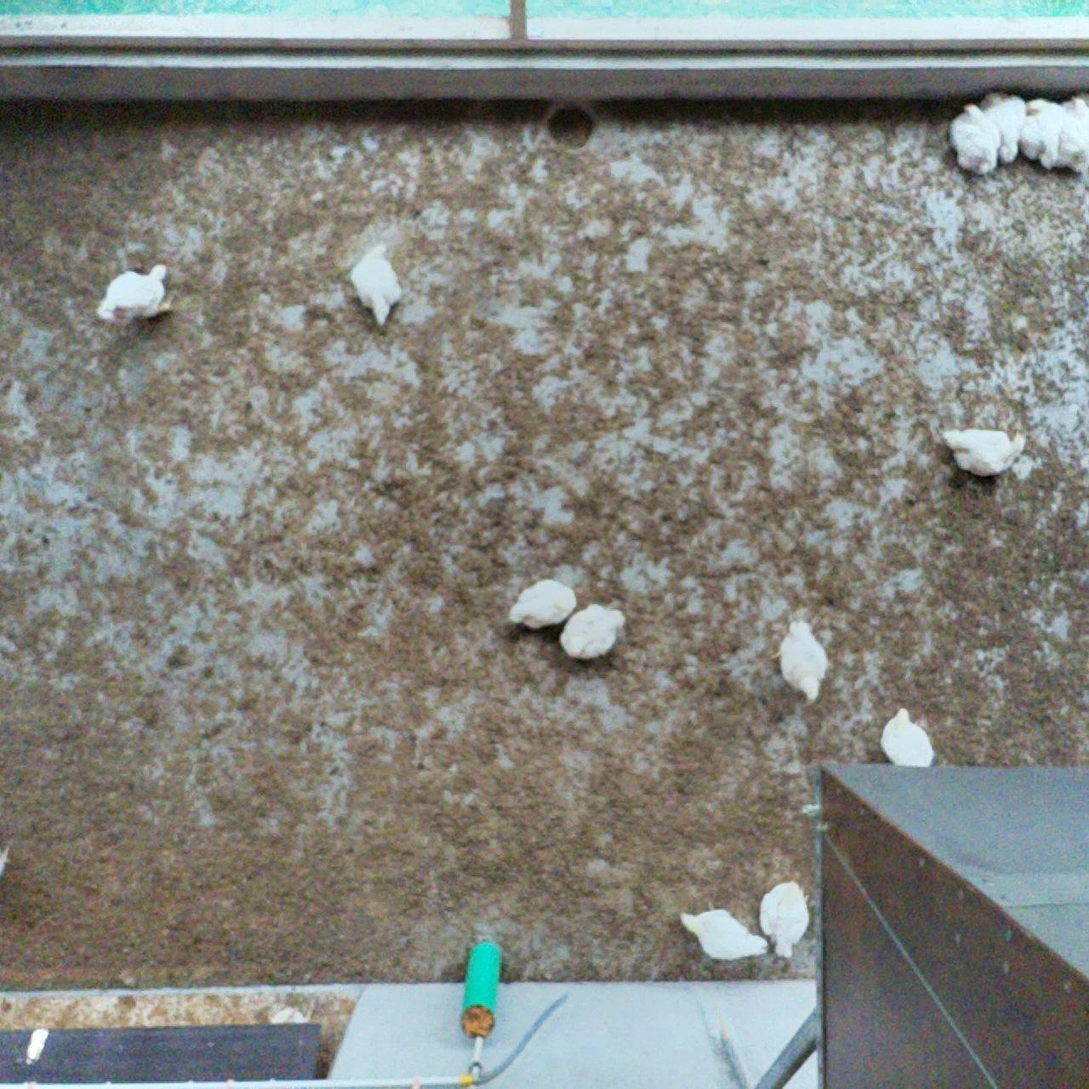chicken: (768, 617, 839, 709), (93, 258, 179, 328), (674, 904, 769, 967), (938, 416, 1029, 481), (347, 239, 408, 332), (556, 594, 626, 665), (755, 877, 815, 959), (945, 100, 1005, 179), (501, 575, 580, 634), (974, 84, 1028, 167), (873, 704, 938, 769), (1019, 94, 1067, 174), (1053, 89, 1089, 176)
